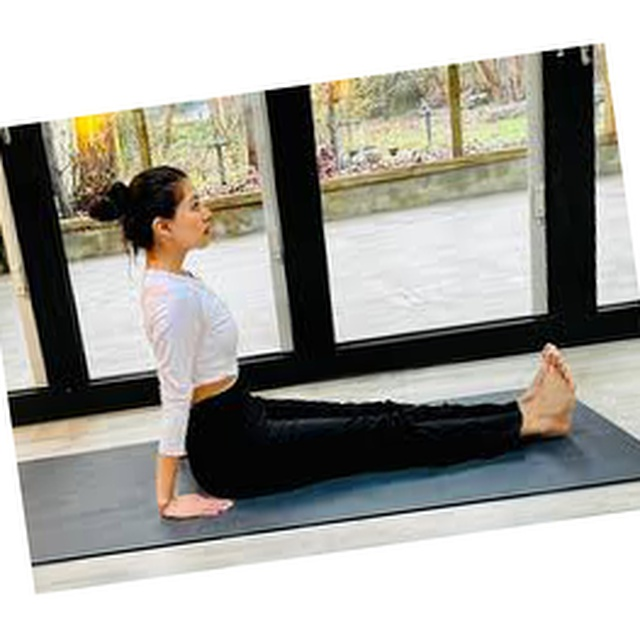Staff_Pose: (89, 165, 577, 519)
